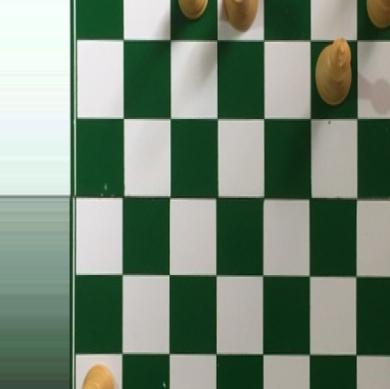white-king: (312, 32, 353, 107)
white-pawn: (78, 362, 116, 389), (362, 0, 390, 34), (174, 0, 210, 23)
white-rook: (222, 0, 260, 32)
